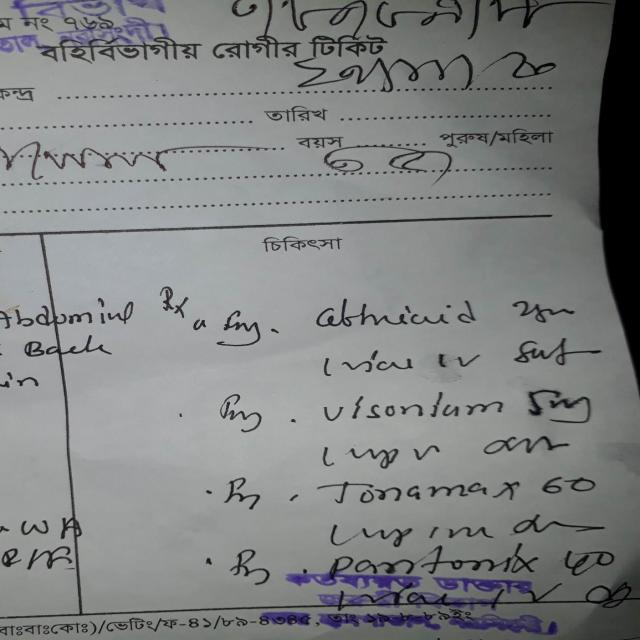Ceftriaid: (303, 295, 487, 333)
Pantonix: (319, 553, 542, 582)
Tonamax: (318, 475, 529, 510)
Visonium: (312, 387, 518, 428)
